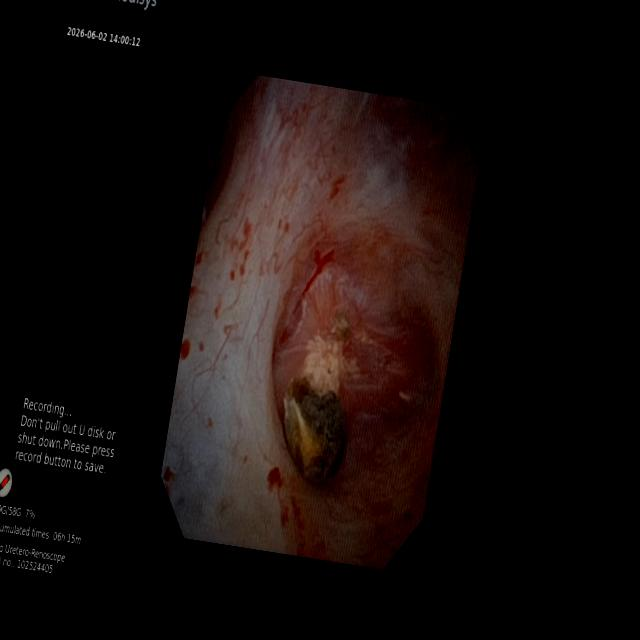stone-new: (283, 377, 345, 481)
